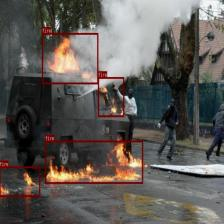fire: (45, 140, 143, 184), (42, 33, 98, 84), (0, 166, 40, 197), (98, 77, 124, 117)
